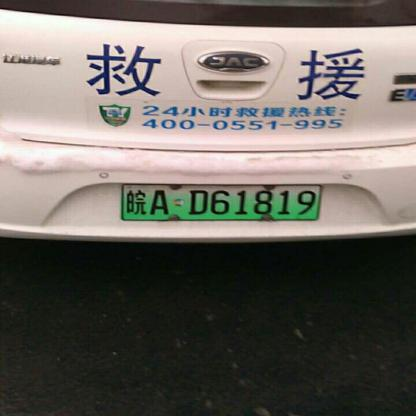lp: (122, 184, 320, 220)
